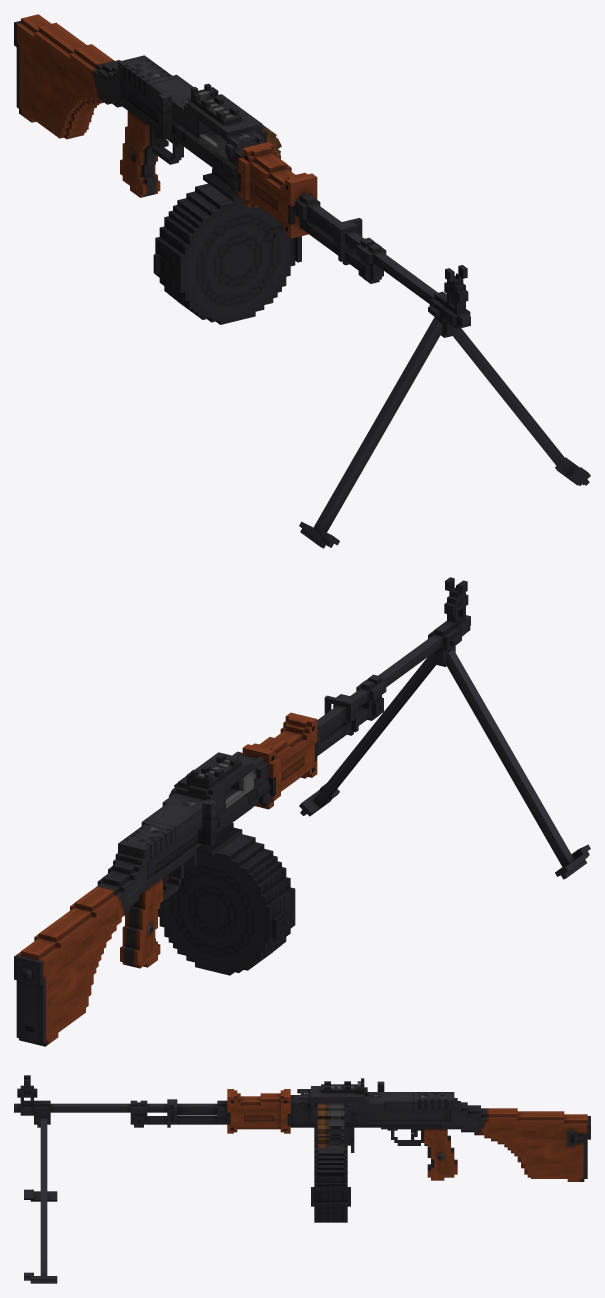
Rendered from RD_RPD.glb.
3 views of the same model, one above another, from view 1: azimuth 30°, elevation 25°; view 2: azimuth 150°, elevation 25°; view 3: azimuth 270°, elevation 25° (orthographic). The views are drawn at different scales.
Parts seen in each view (by area): view 1: RPD, RPD_CLIP, RPD_BODY_COVER, RPD_DIPOD_LEG1, RPD_DIPOD_LEG2, RPD_BOLT; view 2: RPD, RPD_CLIP, RPD_BODY_COVER, RPD_DIPOD_LEG1, RPD_DIPOD_LEG2, RPD_BOLT; view 3: RPD, RPD_BODY_COVER, RPD_CLIP, RPD_DIPOD_LEG2, RPD_CLIP_COVER, RPD_DIPOD_LEG1.
Part boxes in pixels (x1,y1,x2,y2): RPD: [14, 14, 470, 337]; RPD_CLIP: [153, 183, 301, 324]; RPD_BODY_COVER: [120, 57, 263, 151]; RPD_DIPOD_LEG1: [299, 318, 441, 548]; RPD_DIPOD_LEG2: [453, 328, 590, 485]; RPD_BOLT: [158, 92, 238, 193]; RPD: [14, 577, 470, 1046]; RPD_CLIP: [158, 834, 295, 975]; RPD_BODY_COVER: [121, 751, 263, 861]; RPD_DIPOD_LEG1: [445, 649, 590, 879]; RPD_DIPOD_LEG2: [299, 652, 436, 816]; RPD_BOLT: [198, 781, 270, 846]; RPD: [14, 1075, 590, 1181]; RPD_BODY_COVER: [297, 1078, 450, 1112]; RPD_CLIP: [311, 1145, 350, 1222]; RPD_DIPOD_LEG2: [24, 1119, 57, 1283]; RPD_CLIP_COVER: [317, 1148, 344, 1176]; RPD_DIPOD_LEG1: [24, 1189, 57, 1201].
Bounding box in the file's own units: 0.6023 × 0.5346 × 1.7.
1 material, 1 textured.
